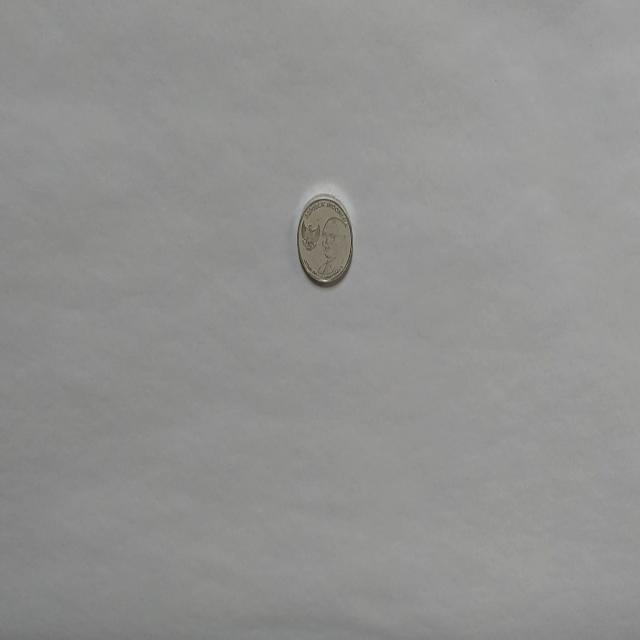lima ratus rupiah: (296, 192, 353, 287)
